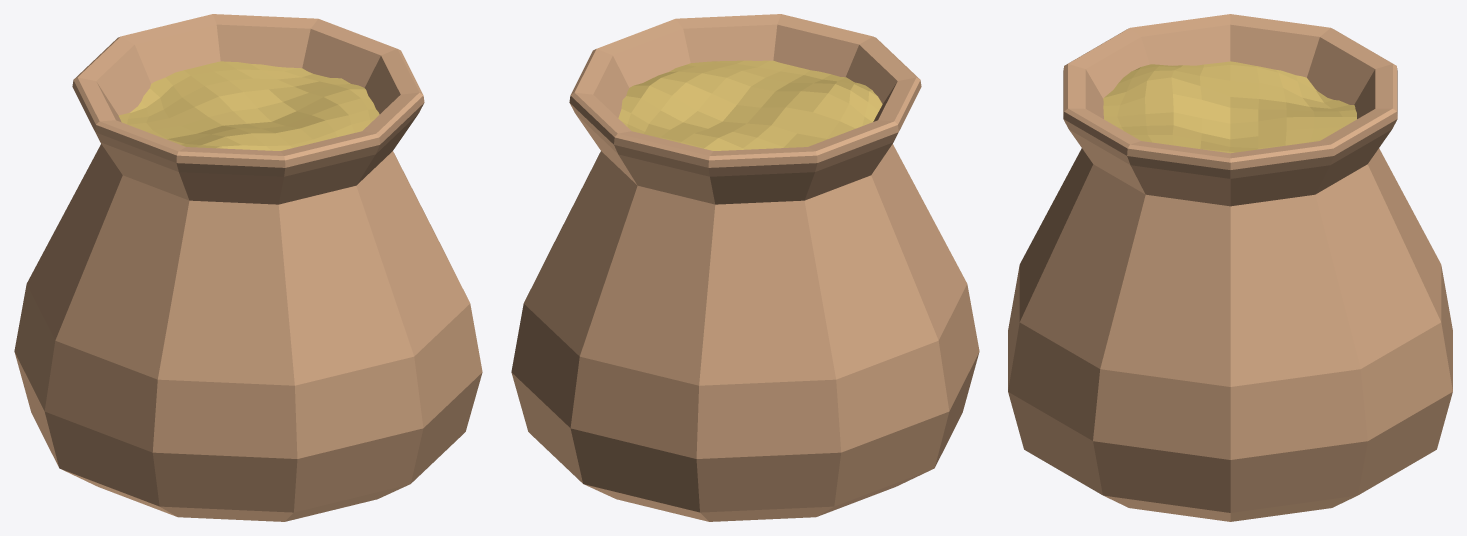
Rendered from OpenSack.fbx.
3 views of the same model, side by side, from view 1: azimuth 30°, elevation 25°; view 2: azimuth 150°, elevation 25°; view 3: azimuth 270°, elevation 25° (orthographic).
Visible parts, largest first — view 1: OpenSack; view 2: OpenSack; view 3: OpenSack.
Boxes of the visible parts, <box> form: OpenSack: <box>14,14,482,521</box>; OpenSack: <box>511,14,979,521</box>; OpenSack: <box>1008,14,1452,521</box>.
Size of the model in its own units: 2.23 by 1.91 by 2.13.
